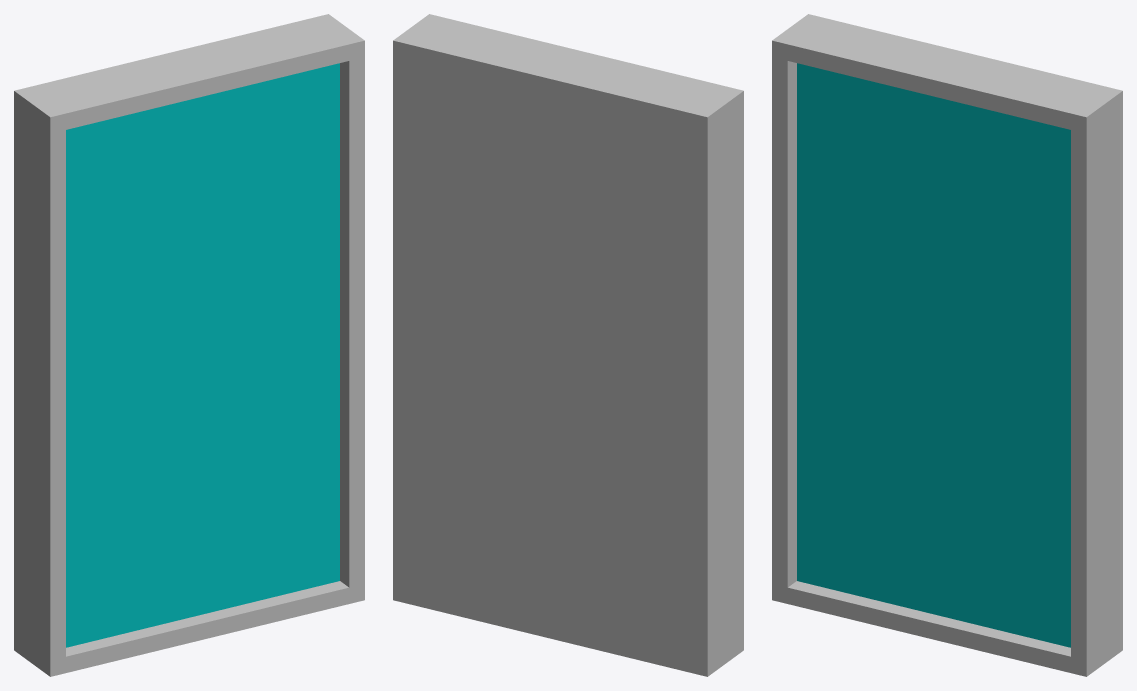
The model's file is ScreenB.fbx.
The picture shows the model from 3 angles, left to right: view 1: azimuth 30°, elevation 25°; view 2: azimuth 150°, elevation 25°; view 3: azimuth 330°, elevation 25°; orthographic projection.
Visible parts, largest first — view 1: Screen_B; view 2: Screen_B; view 3: Screen_B.
Boxes of the visible parts, x1,y1,x2,y2 form: Screen_B: (14,14,364,676); Screen_B: (393,14,743,676); Screen_B: (772,14,1122,676).
Bounding box in the file's own units: 100 × 170 × 20.
